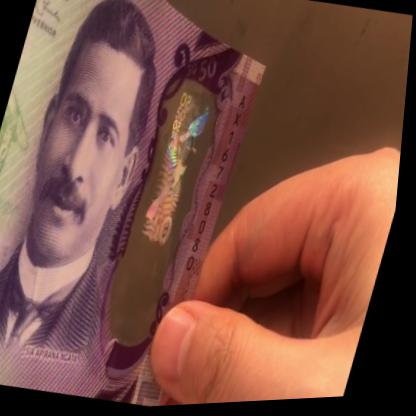50F: (119, 83, 220, 327)
